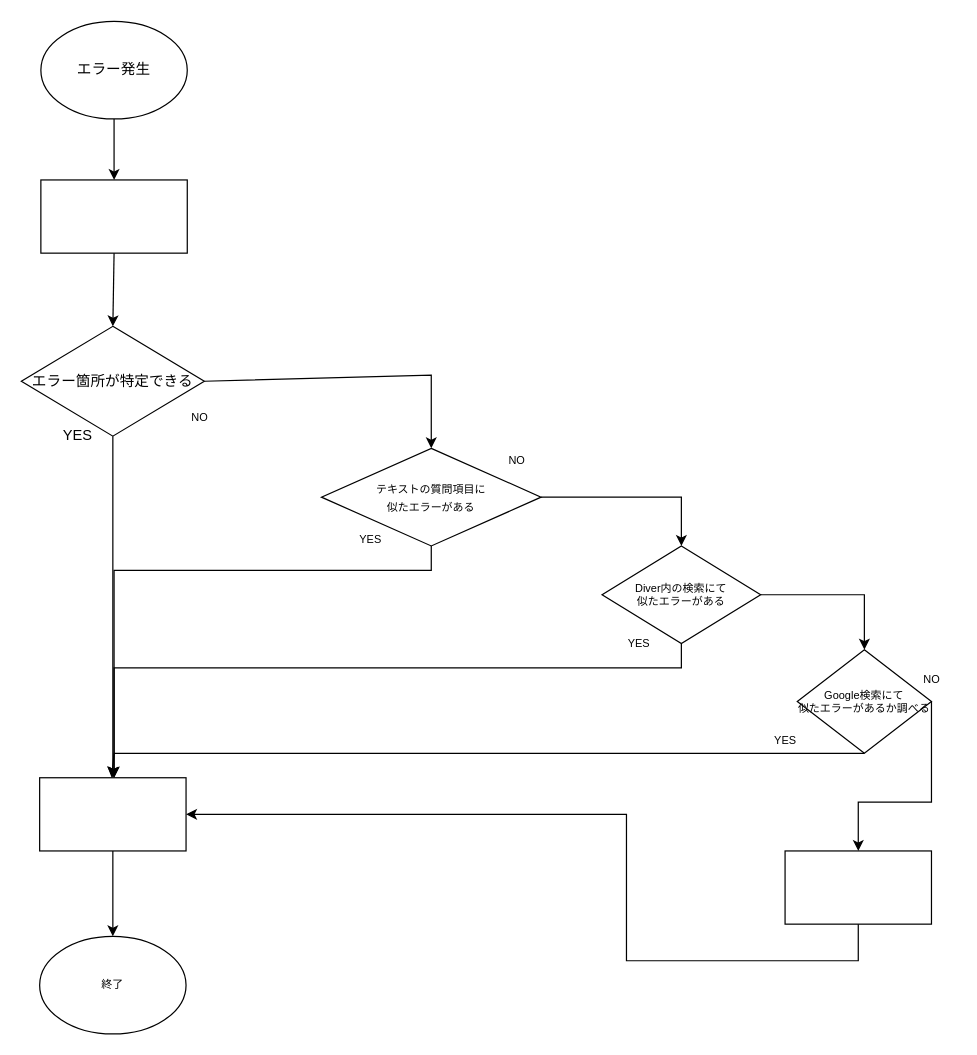
The diagram is 977 pixels wide and 1055 high, and some of its shapes have lost their labels. Here are the shapes that lost their labels. From the top down, the centre of each, then its label:
the point at 113,216: エラーメッセージを確認
the point at 112,814: エラー復旧
the point at 857,887: メンターさんに 質問をする
